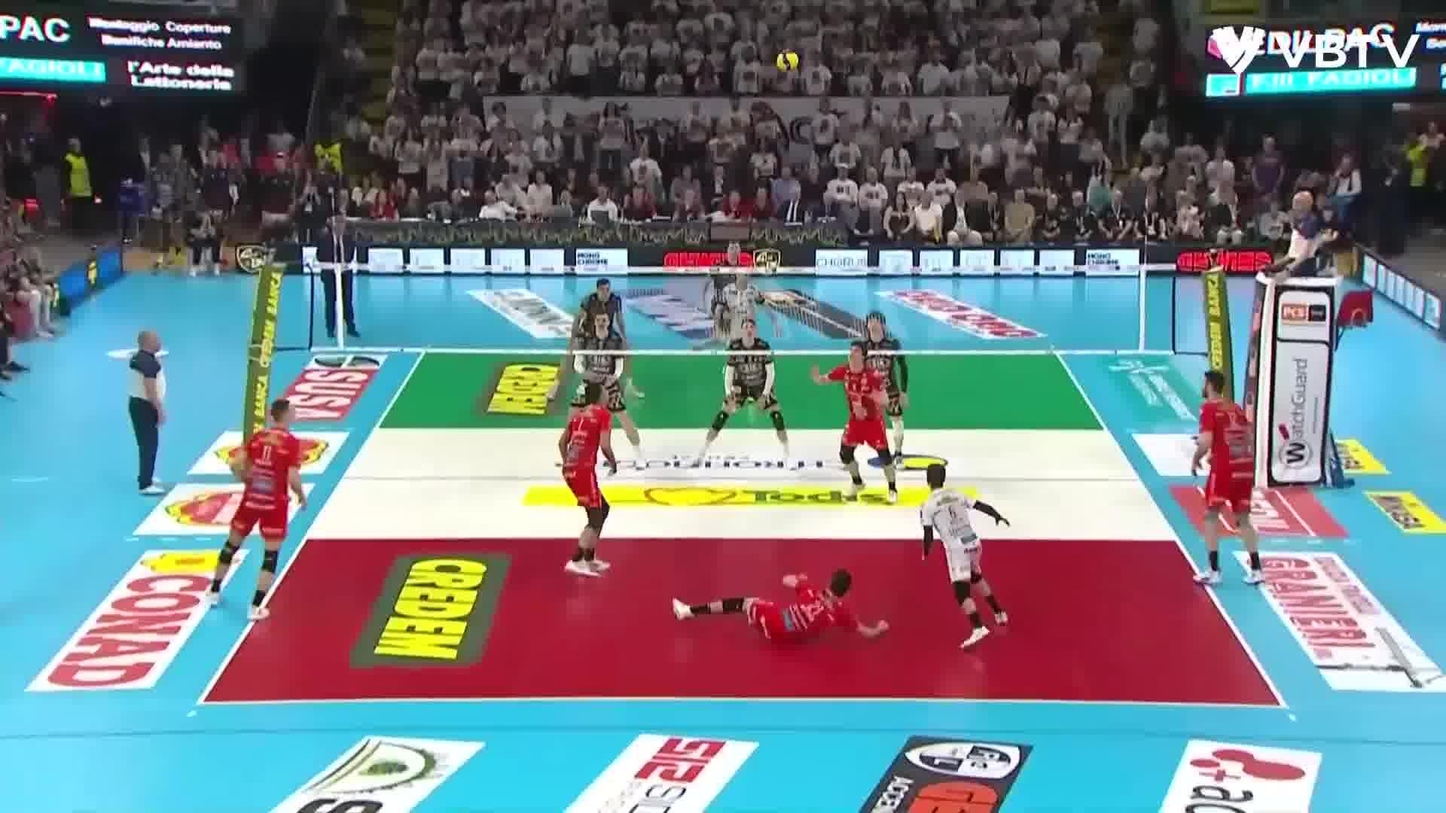balls: (773, 47, 801, 75)
